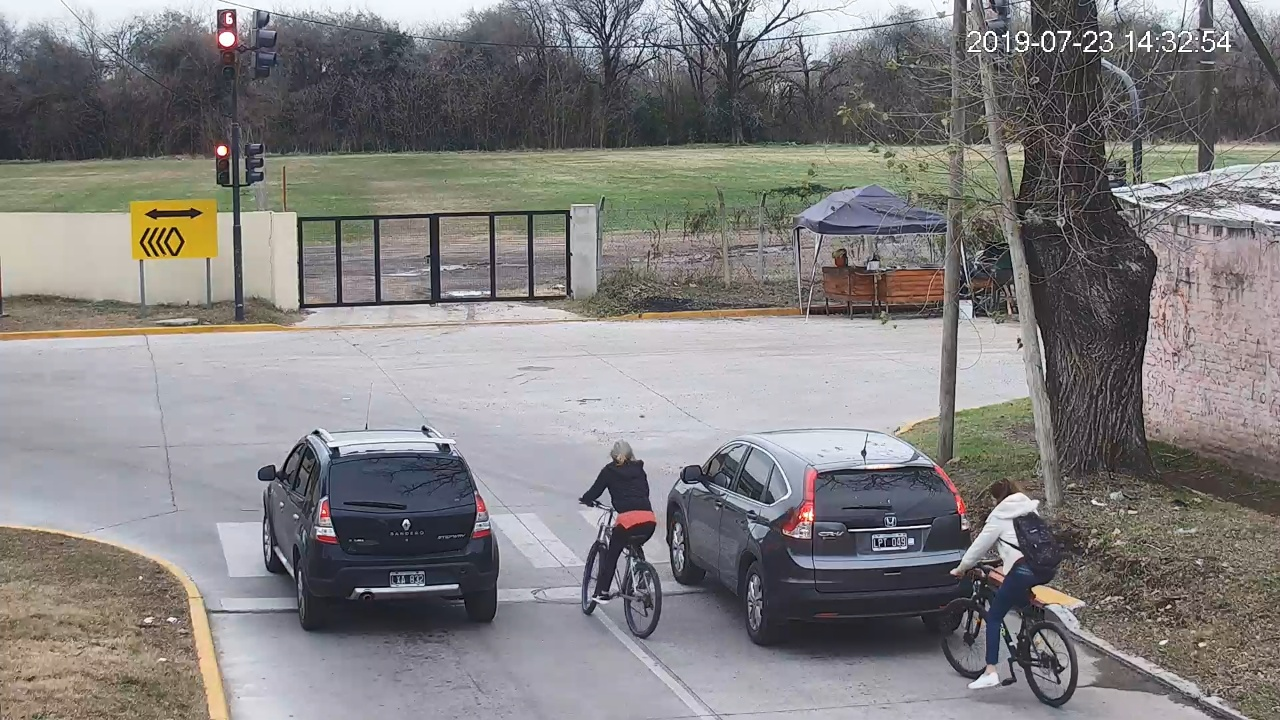bicycle: (941, 479, 1078, 709), (579, 438, 663, 638)
car: (259, 425, 500, 630)
